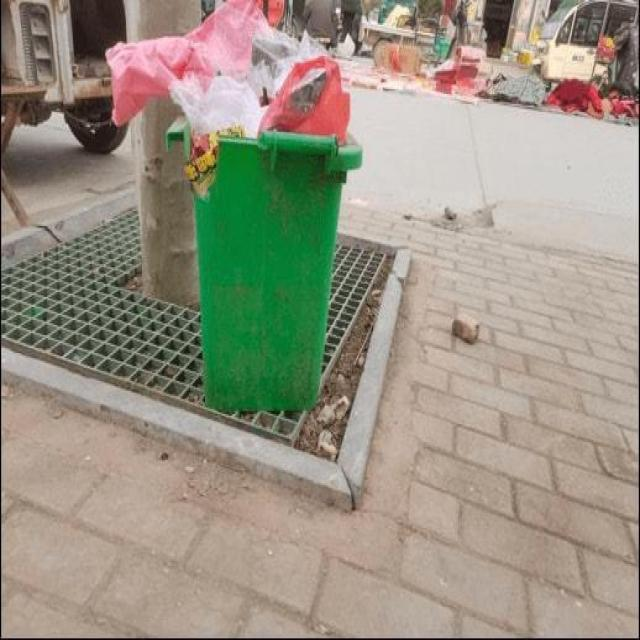overflow: (105, 0, 360, 409)
